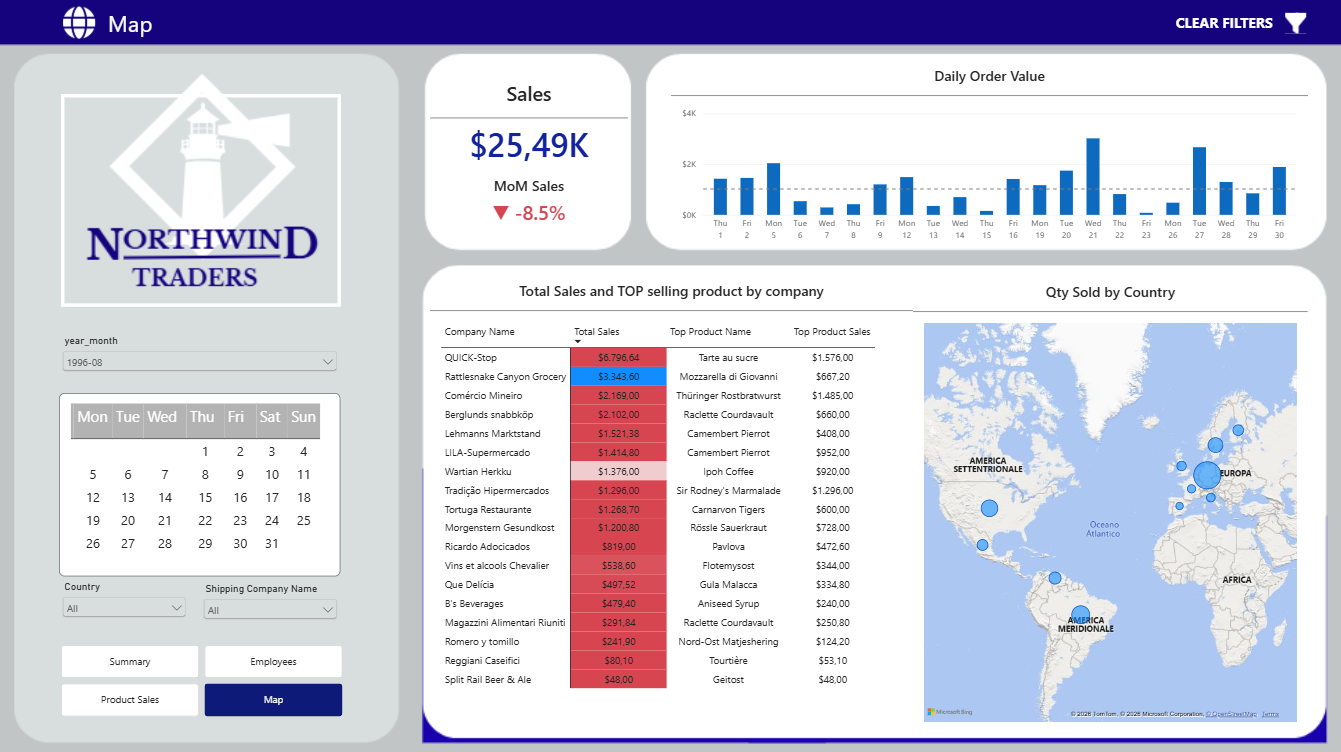

What the dashboard file says about the page in this screenshot:
{"tool":"powerbi","page":{"name":"Map","canvas":[1920,1080],"ordinal":3},"visuals":[{"type":"image","box":[0,0,1920,1080],"z":0},{"type":"pivotTable","title":"Total Sales and TOP selling product by company ","fields":{"Rows":["Customers.CompanyName"],"Values":["Mesures.tot_revenue","Mesures.Top_Product_Name","Mesures.Top_Product_Revenue"]},"box":[615,387.5,690,657.5],"z":1000},{"type":"slicer","fields":{"Values":["Shippers.CompanyName"]},"box":[287.7,832.4,200.9,77.8],"z":2000},{"type":"columnChart","title":"Daily Order Value","fields":{"Category":["calendar.Date.Variation.Date Hierarchy.Day","calendar.day_name"],"Y":["Mesures.tot_revenue"]},"box":[960,80,910,288.3],"z":3000},{"type":"card","title":"Sales","fields":{"Values":["Mesures.tot_revenue"]},"box":[615,100,282.5,155],"z":4000},{"type":"card","title":"MoM Sales","fields":{"Values":["Mesures.MoM_Sales_Label"]},"box":[615,237.5,282.5,95],"z":5000},{"type":"slicer","fields":{"Values":["Customers.Country"]},"box":[86,830,186,80],"z":6000},{"type":"pivotTable","fields":{"Columns":["calendar.day_name"],"Rows":["calendar.week_number"],"Values":["Min(calendar.day_number)"]},"box":[86,562,401.7,261.7],"z":7000},{"type":"slicer","fields":{"Values":["calendar.year_month"]},"box":[86,478,402,84],"z":8000},{"type":"pageNavigator","box":[88,922,402,102],"z":9000},{"type":"shape","box":[88,134,400,304],"z":10000},{"type":"map","title":"Qty Sold by Country","fields":{"Category":["Customers.Country"],"Size":["Mesures.tot_qty_sold"]},"box":[1306,388,564,658],"z":11000},{"type":"image","box":[92,4,46,56],"z":11001},{"type":"textbox","box":[156,10,232,62],"z":11002},{"type":"actionButton","box":[1656,12,176,40],"z":11003},{"type":"actionButton","box":[1832,10,42,46],"z":11004}]}

Visuals, with their boxes in screenshot pixels (x1, y1, x2, y2), scaled from the page's 1920x1080 canvas onto the 1341x752 screenshot:
image: bbox(0, 0, 1340, 751)
"Total Sales and TOP selling product by company " pivotTable: bbox(430, 270, 911, 728)
slicer - Shippers.CompanyName: bbox(201, 580, 341, 634)
"Daily Order Value" columnChart: bbox(670, 56, 1306, 256)
"Sales" card: bbox(430, 70, 627, 178)
"MoM Sales" card: bbox(430, 165, 627, 232)
slicer - Customers.Country: bbox(60, 578, 190, 634)
pivotTable - calendar.day_name x calendar.week_number: bbox(60, 391, 341, 574)
slicer - calendar.year_month: bbox(60, 333, 341, 391)
pageNavigator: bbox(61, 642, 342, 713)
shape: bbox(61, 93, 341, 305)
"Qty Sold by Country" map: bbox(912, 270, 1306, 728)
image: bbox(64, 3, 96, 42)
textbox: bbox(109, 7, 271, 50)
actionButton: bbox(1157, 8, 1280, 36)
actionButton: bbox(1280, 7, 1309, 39)
